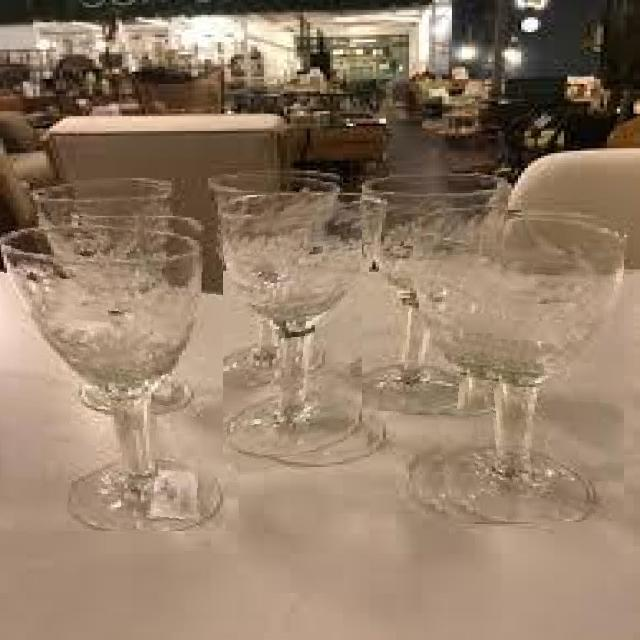Glass: (2, 210, 250, 531), (416, 210, 624, 522), (224, 195, 394, 466), (362, 171, 508, 412), (33, 180, 182, 217), (208, 168, 342, 192)
